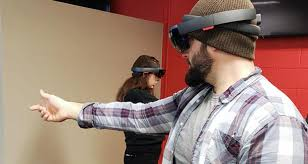hololens: (168, 8, 262, 52), (130, 65, 167, 81)
